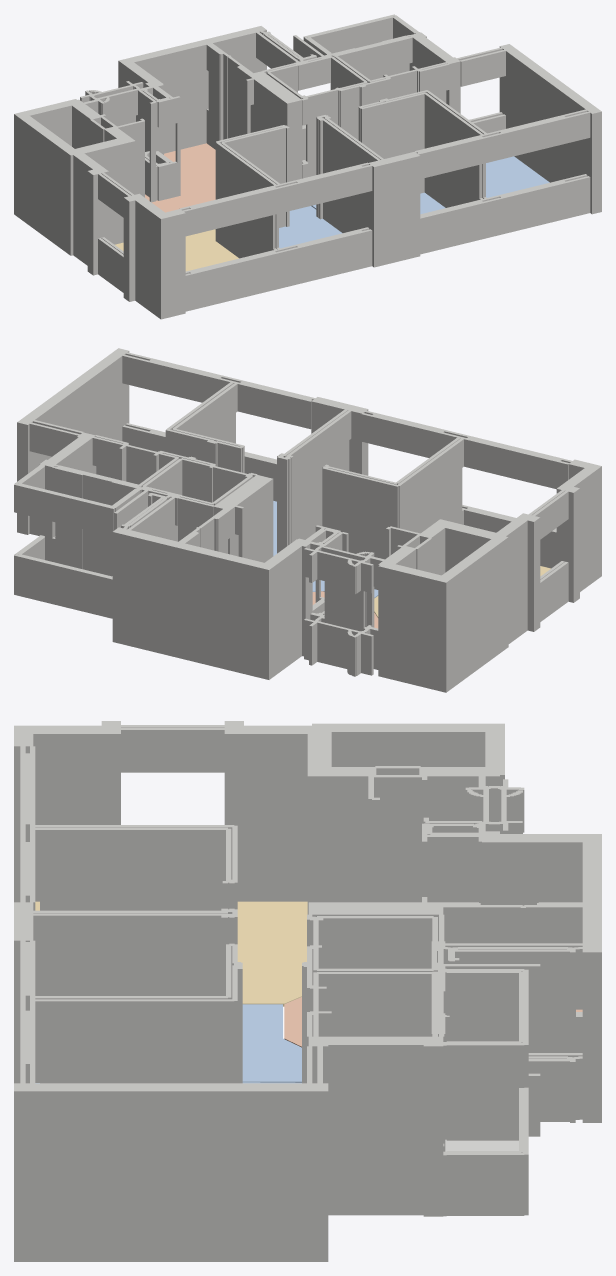
3 renders of one model, top to bottom at view 1: azimuth 30°, elevation 25°; view 2: azimuth 150°, elevation 25°; view 3: azimuth 270°, elevation 25°, orthographic. The views are drawn at different scales.
Parts seen in each view (by area): view 1: walls, room:kitchen:0, room:bedroom:9, room:bedroom:3, room:living:6; view 2: walls; view 3: walls, room:living:6, room:bedroom:3, room:ledge:4, room:kitchen:0.
Part boxes in pixels (bbox=[...]): walls: bbox=[14, 14, 601, 319]; room:kitchen:0: bbox=[145, 143, 215, 212]; room:bedroom:9: bbox=[486, 156, 549, 197]; room:bedroom:3: bbox=[279, 206, 342, 248]; room:living:6: bbox=[115, 229, 238, 271]; walls: bbox=[14, 348, 601, 692]; walls: bbox=[14, 721, 601, 1261]; room:living:6: bbox=[35, 901, 307, 1006]; room:bedroom:3: bbox=[242, 1004, 301, 1082]; room:ledge:4: bbox=[445, 1139, 518, 1151]; room:kitchen:0: bbox=[284, 997, 582, 1047].
Size of the model in its own units: 13.04 by 2.8 by 8.75.
